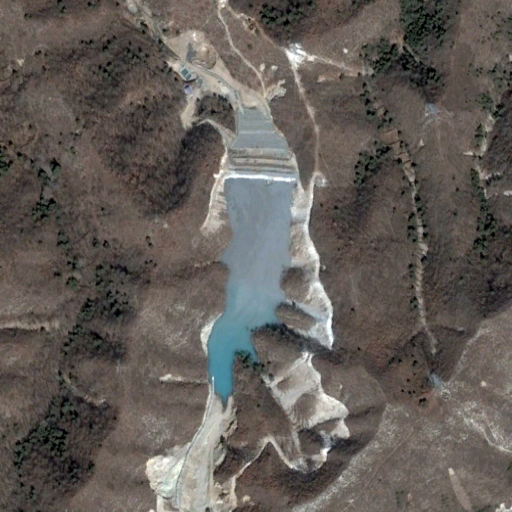tp: (205, 107, 298, 406)
